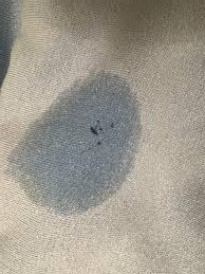ink: (32, 80, 141, 216)
